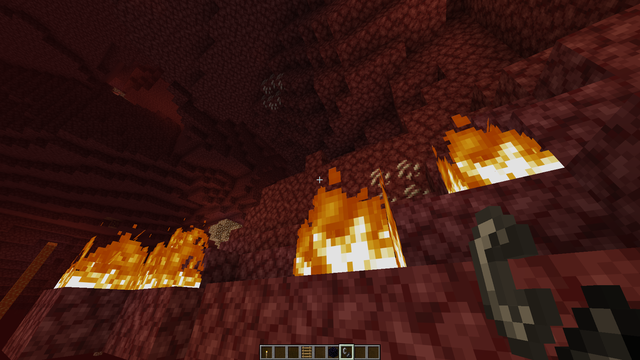quartz: (368, 155, 436, 206), (257, 71, 289, 111)
